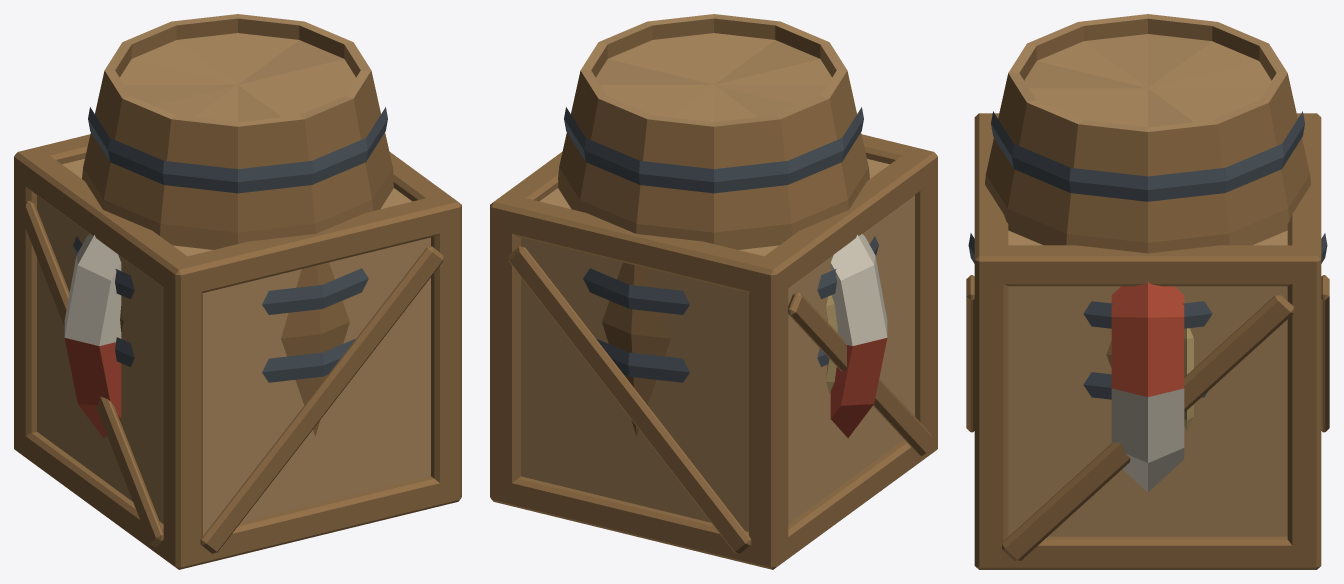
Rendered from aparejos.glb.
3 renders of one model, left to right at view 1: azimuth 30°, elevation 25°; view 2: azimuth 150°, elevation 25°; view 3: azimuth 270°, elevation 25°, orthographic. The views are drawn at different scales.
Parts seen in each view (by area): view 1: caja_madera, barril, salvavidas; view 2: caja_madera, barril, salvavidas; view 3: caja_madera, barril, salvavidas.
Boxes of the visible parts, x1,y1,x2,y2 form: caja_madera: (14,134,461,569); barril: (73,14,393,436); salvavidas: (64,234,121,437); caja_madera: (490,134,937,569); barril: (558,14,878,436); salvavidas: (826,234,887,437); caja_madera: (966,113,1329,569); barril: (968,14,1327,399); salvavidas: (1111,282,1193,492).
Size of the model in its own units: 0.75 by 0.84 by 0.65.
